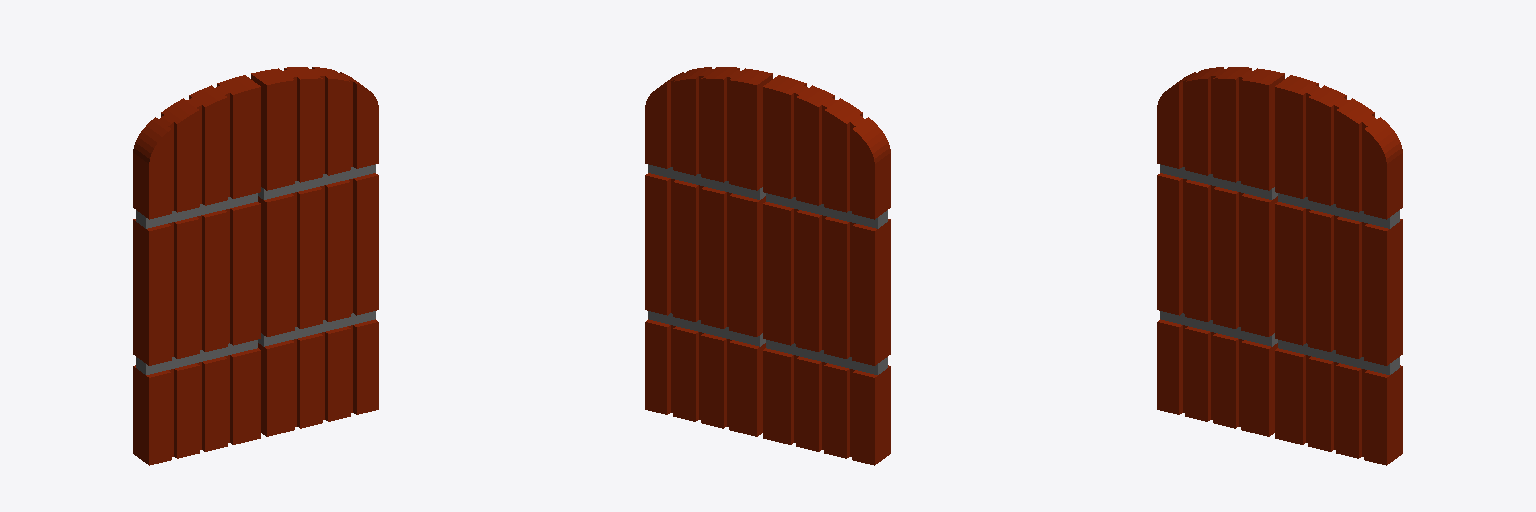
Rendered from Door.obj.
3 renders of one model, left to right at view 1: azimuth 30°, elevation 25°; view 2: azimuth 150°, elevation 25°; view 3: azimuth 330°, elevation 25°, orthographic.
Visible parts, largest first — view 1: obj_0.029; view 2: obj_0.029; view 3: obj_0.029.
Boxes of the visible parts, x1=… form: obj_0.029: x1=133, y1=67, x2=378, y2=465; obj_0.029: x1=645, y1=67, x2=890, y2=465; obj_0.029: x1=1157, y1=67, x2=1402, y2=465.
Bounding box in the file's own units: 40.99 × 60 × 5.